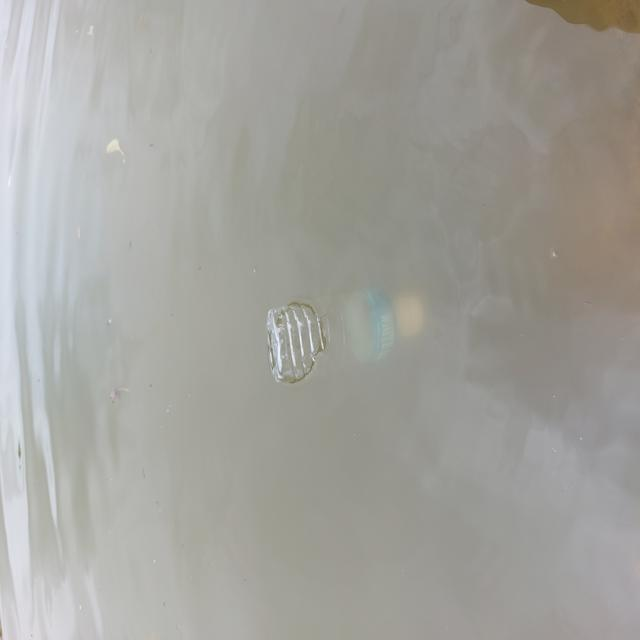waterbottle: (253, 286, 426, 404)
